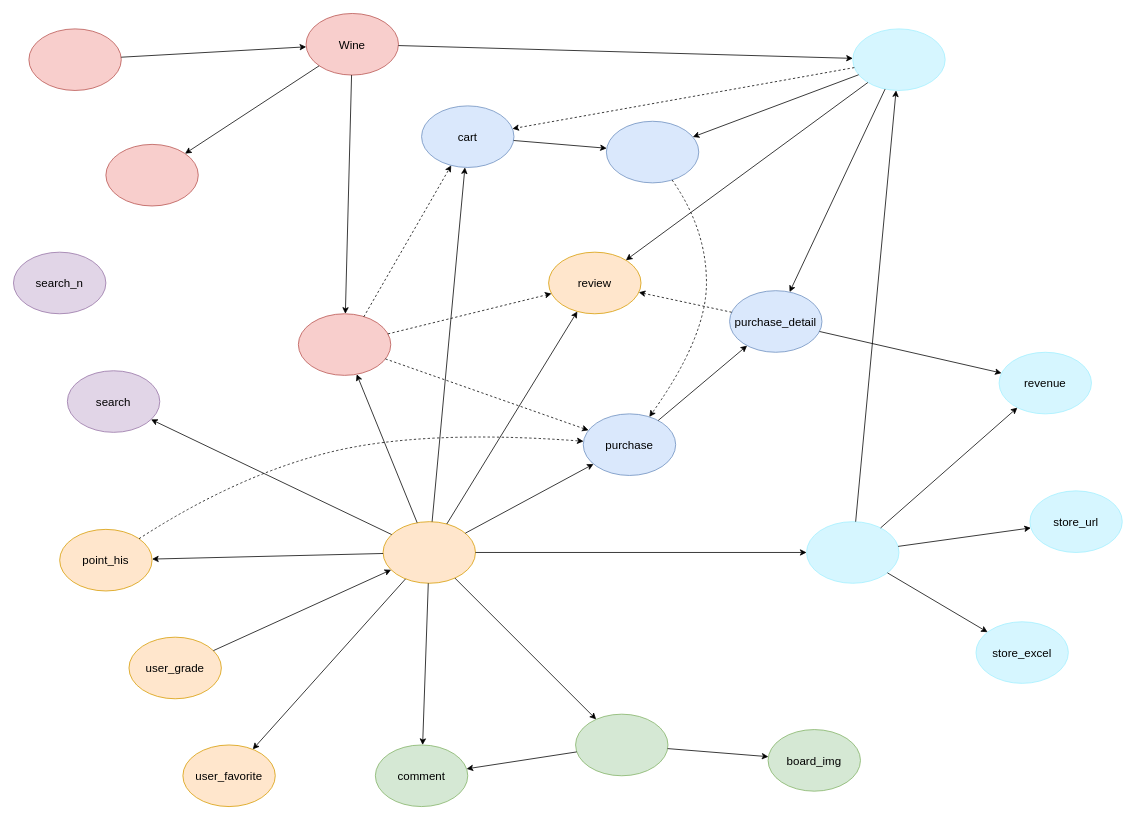
This 1136x820 diagram has some shape labels left out. Each missing label, with the centre of its shape:
"board" belongs at [621,744].
"cart_detail" belongs at [652,152].
"detail_view" belongs at [344,344].
"detail_view_n" belongs at [151,175].
"sell" belongs at [898,59].
"store" belongs at [852,552].
"user" belongs at [428,552].
"wine_region" belongs at [74,59].
